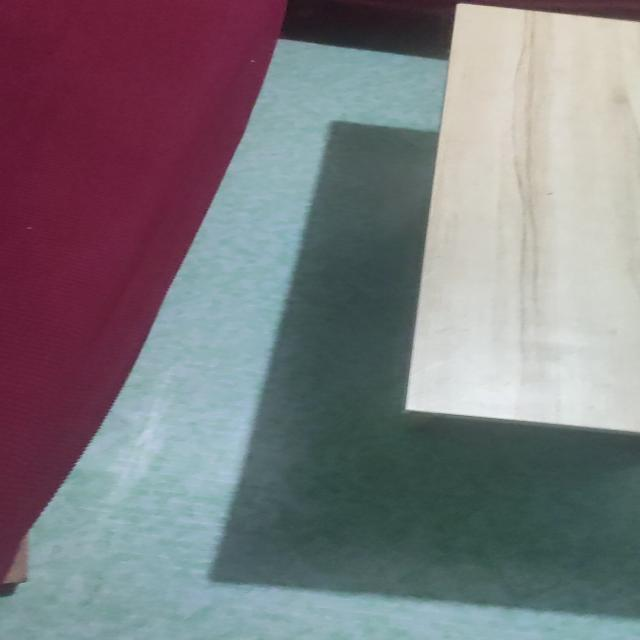table: (387, 0, 640, 439)
